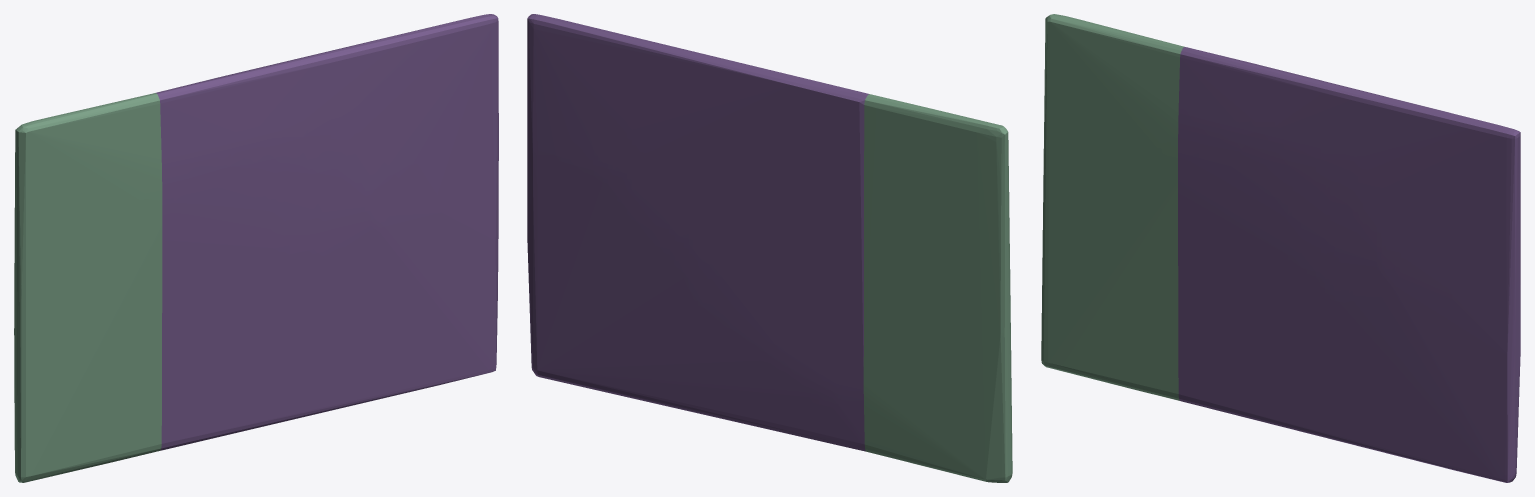
The model's file is coacd_collision.obj.
3 renders of one model, left to right at view 1: azimuth 30°, elevation 25°; view 2: azimuth 150°, elevation 25°; view 3: azimuth 330°, elevation 25°, orthographic.
Visible parts, largest first — view 1: geometry_1, geometry_0; view 2: geometry_1, geometry_0; view 3: geometry_1, geometry_0.
Boxes of the visible parts, x1,y1,x2,y2 form: geometry_1: [156, 14, 498, 450]; geometry_0: [14, 93, 162, 482]; geometry_1: [527, 14, 868, 451]; geometry_0: [863, 94, 1012, 482]; geometry_1: [1178, 47, 1520, 482]; geometry_0: [1041, 14, 1184, 400].
Bounding box in the file's own units: 255 × 183 × 12.12.
